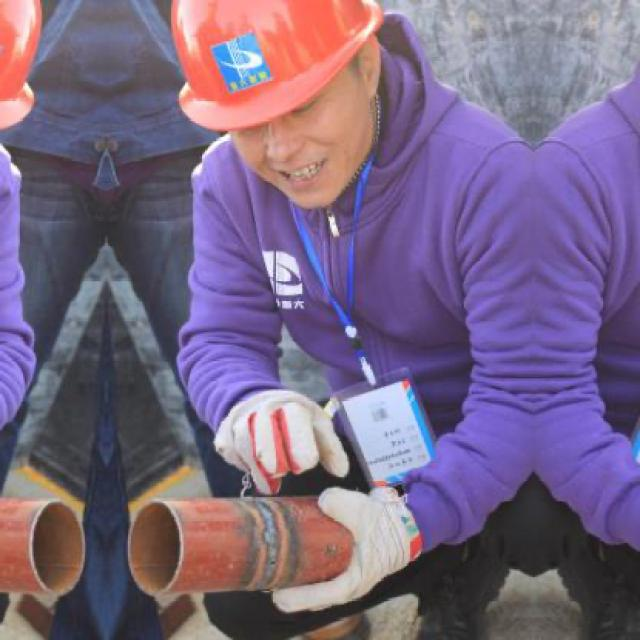con casco: (176, 0, 398, 209)
